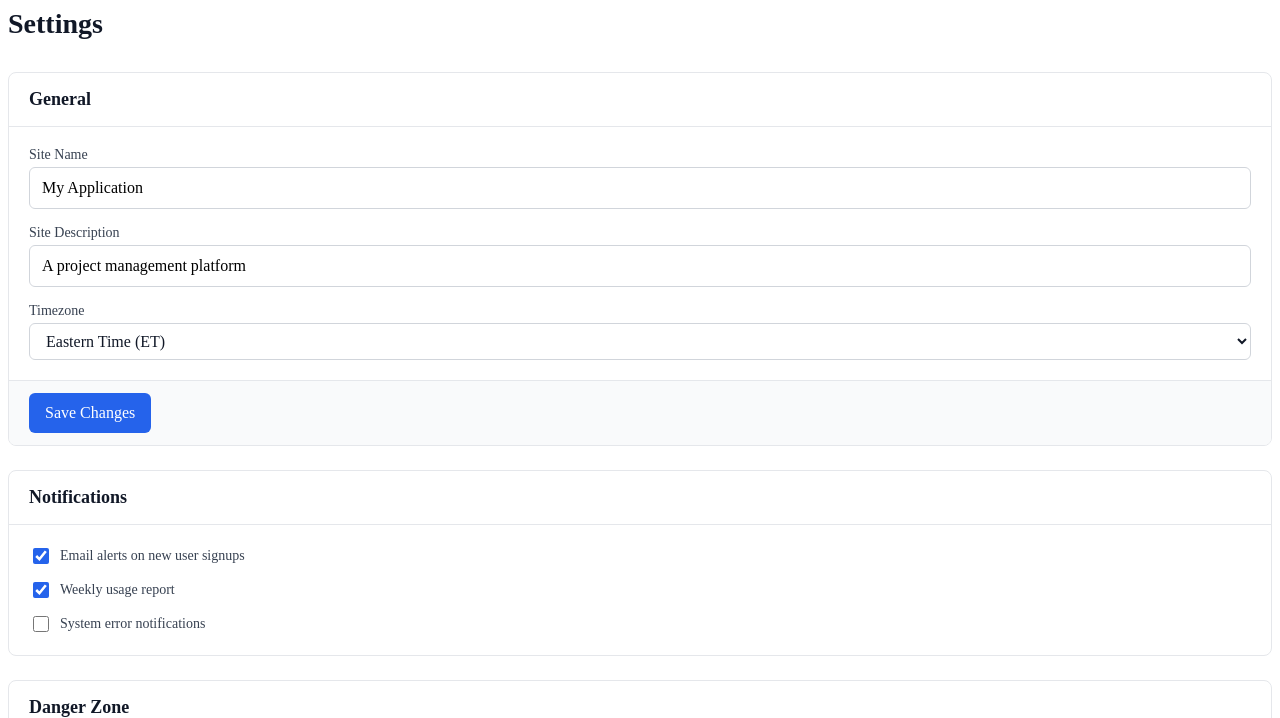
Scenario: Settings › shows error when site name is empty
Step 1. Clear the field labelled "Site Name" → (640, 188), box [29, 167, 1251, 209]
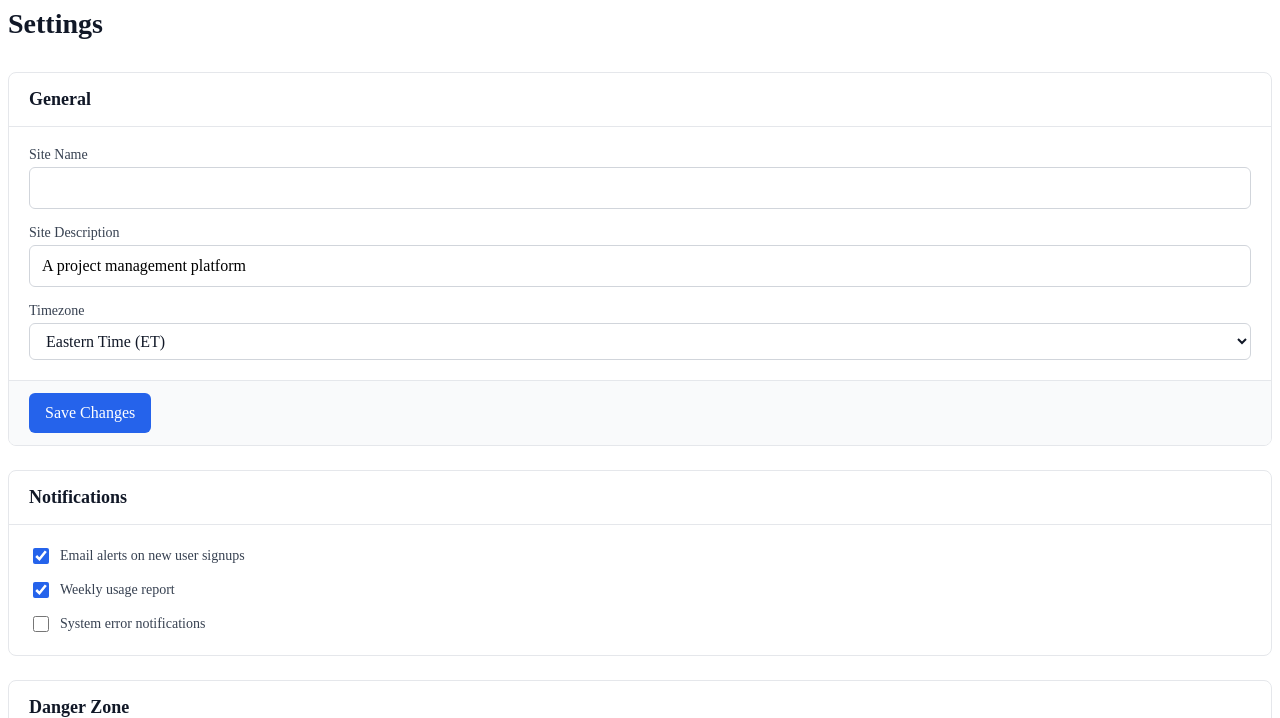
Step 2. Click the button "Save Changes" → (90, 413), box [29, 393, 151, 433]
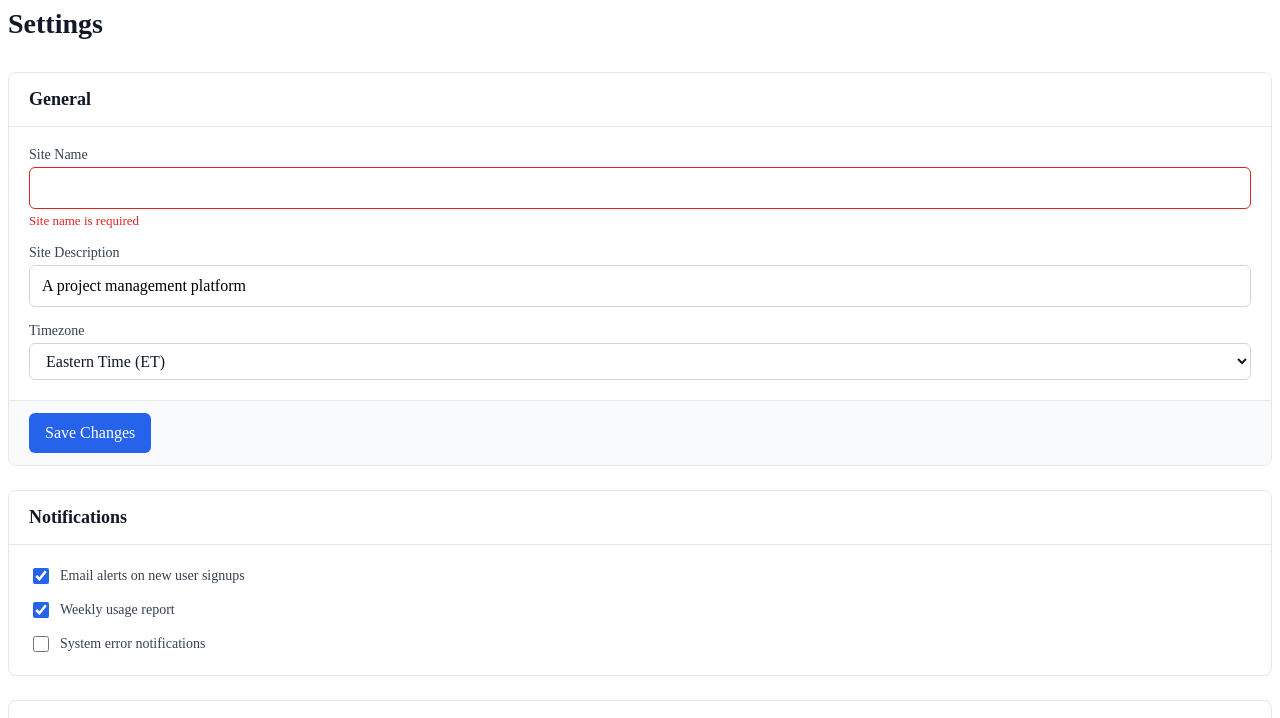
Expected: the text "Site name is required" is shown, [29, 213, 139, 228]
